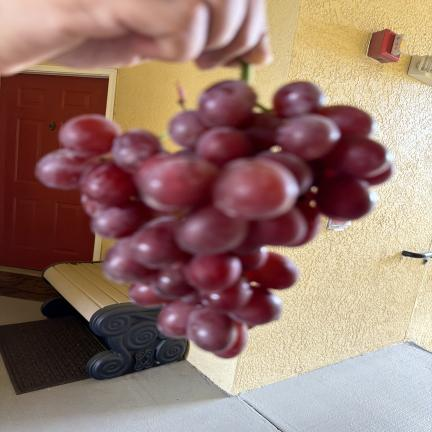grape_cluster: (35, 62, 392, 358)
